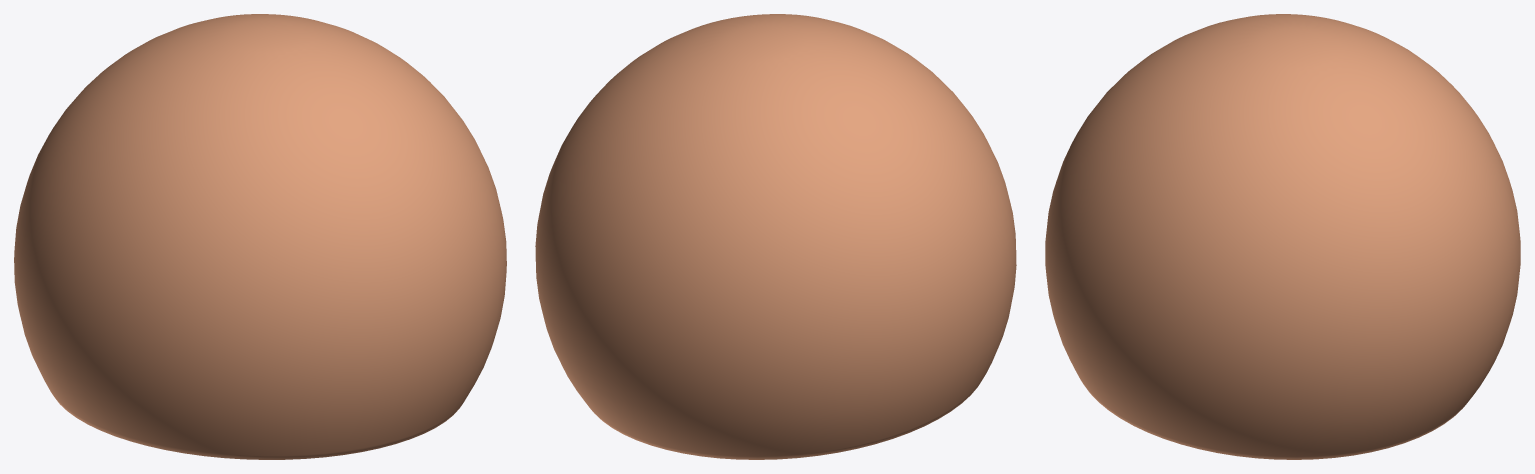
The picture shows the model from 3 angles, left to right: view 1: azimuth 30°, elevation 25°; view 2: azimuth 150°, elevation 25°; view 3: azimuth 270°, elevation 25°; orthographic projection. The views are drawn at different scales.
Parts seen in each view (by area): view 1: 右侧视网膜; view 2: 右侧视网膜; view 3: 右侧视网膜.
Boxes of the visible parts, box(x1,y1,x2,y2) form: 右侧视网膜: box(14, 14, 506, 459); 右侧视网膜: box(535, 14, 1016, 459); 右侧视网膜: box(1045, 14, 1520, 459).
Bounding box in the file's own units: 0.0352 × 0.0281 × 0.0352.
